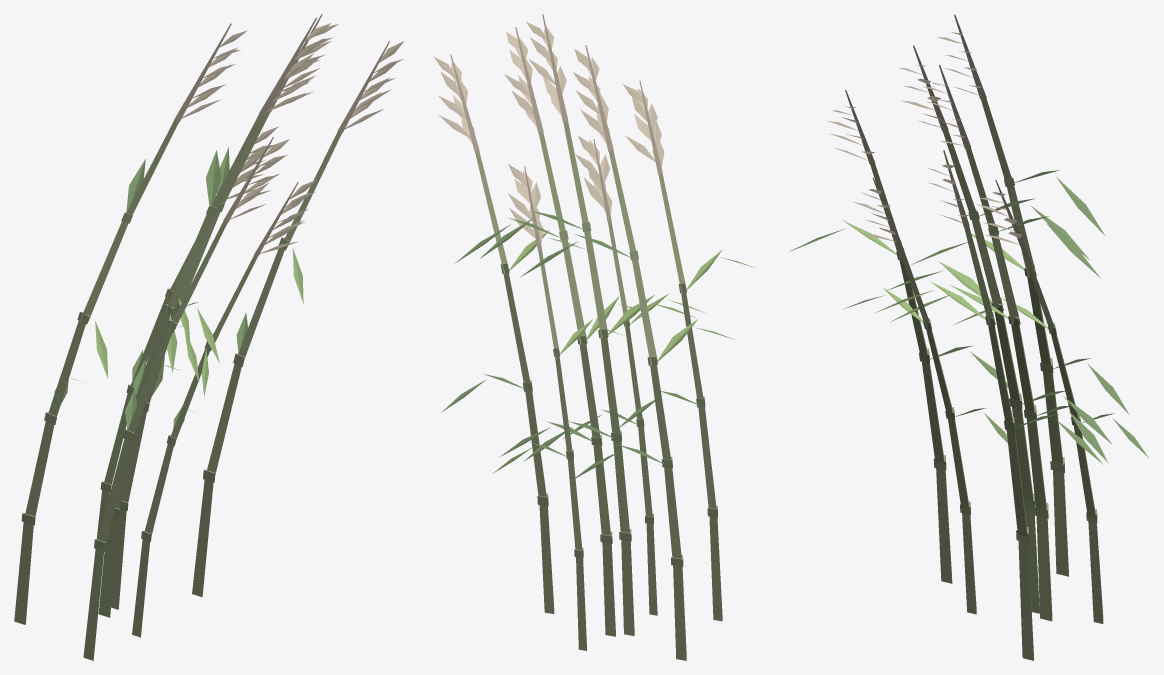
File: shui.luweicong__bloom.glb
3 views of the same model, side by side, from view 1: azimuth 30°, elevation 25°; view 2: azimuth 150°, elevation 25°; view 3: azimuth 270°, elevation 25° (orthographic). The views are drawn at different scales.
Parts seen in each view (by area): view 1: shui.luweicong__bloom; view 2: shui.luweicong__bloom; view 3: shui.luweicong__bloom.
Part boxes in pixels (box(x1,y1,x2,y2)): shui.luweicong__bloom: box(14, 14, 403, 660); shui.luweicong__bloom: box(433, 14, 755, 660); shui.luweicong__bloom: box(789, 14, 1148, 660).
Bounding box in the file's own units: 2.03 × 3.49 × 1.78.
